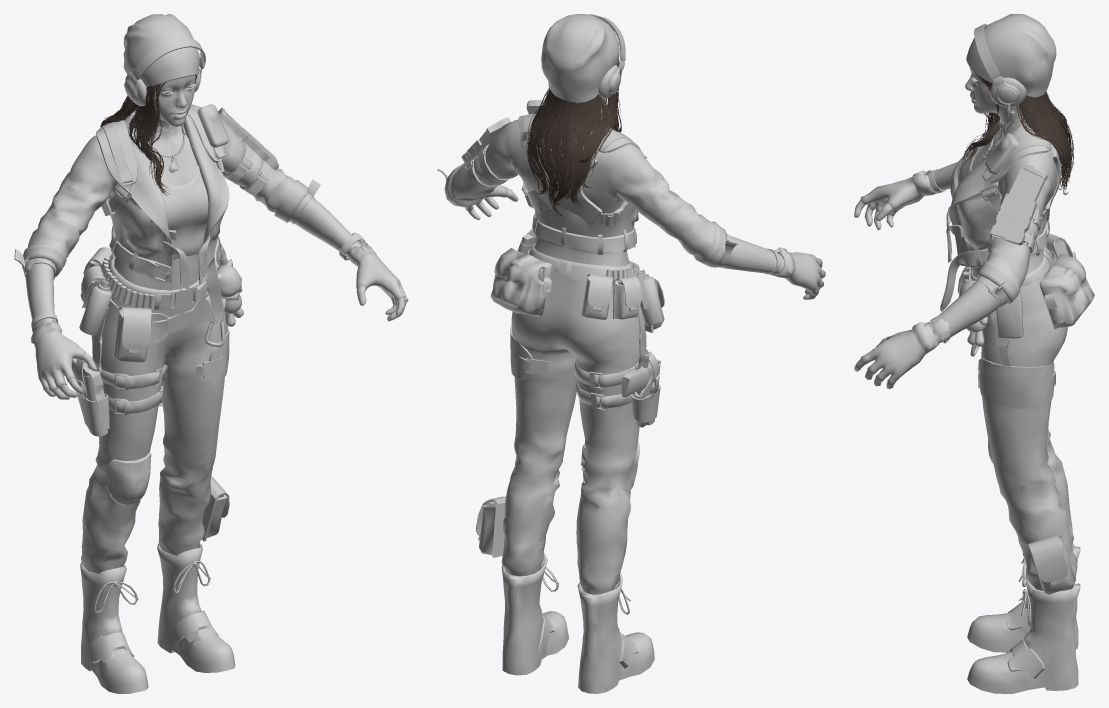
The model's file is Nana Lucky Draw.fbx.
The picture shows the model from 3 angles, left to right: view 1: azimuth 30°, elevation 25°; view 2: azimuth 150°, elevation 25°; view 3: azimuth 270°, elevation 25°; orthographic projection.
Parts seen in each view (by area): view 1: C_F_Nana_Body_lod0, C_F_Nana_Head_lod0, C_F_Nana_Front_lod0, C_F_Nana_Hair_lod0, C_F_Nana_Back_lod0; view 2: C_F_Nana_Body_lod0, C_F_Nana_Hair_lod0, C_F_Nana_Head_lod0, C_F_Nana_Back_lod0, C_F_Nana_Front_lod0; view 3: C_F_Nana_Body_lod0, C_F_Nana_Head_lod0, C_F_Nana_Back_lod0, C_F_Nana_Hair_lod0, C_F_Nana_Front_lod0.
Part boxes in pixels (x1=…): C_F_Nana_Body_lod0: x1=14, y1=104, x2=408, y2=693; C_F_Nana_Head_lod0: x1=123, y1=14, x2=205, y2=185; C_F_Nana_Front_lod0: x1=79, y1=234, x2=243, y2=362; C_F_Nana_Hair_lod0: x1=100, y1=75, x2=197, y2=195; C_F_Nana_Back_lod0: x1=83, y1=104, x2=228, y2=275; C_F_Nana_Body_lod0: x1=437, y1=113, x2=825, y2=693; C_F_Nana_Hair_lod0: x1=526, y1=59, x2=621, y2=216; C_F_Nana_Head_lod0: x1=541, y1=14, x2=625, y2=114; C_F_Nana_Back_lod0: x1=490, y1=100, x2=613, y2=319; C_F_Nana_Front_lod0: x1=517, y1=229, x2=664, y2=332; C_F_Nana_Body_lod0: x1=854, y1=121, x2=1080, y2=693; C_F_Nana_Head_lod0: x1=965, y1=14, x2=1056, y2=170; C_F_Nana_Back_lod0: x1=985, y1=133, x2=1094, y2=329; C_F_Nana_Hair_lod0: x1=961, y1=73, x2=1074, y2=194; C_F_Nana_Front_lod0: x1=946, y1=211, x2=1023, y2=346.
Size of the model in its own units: 105 by 181 by 61.18.
